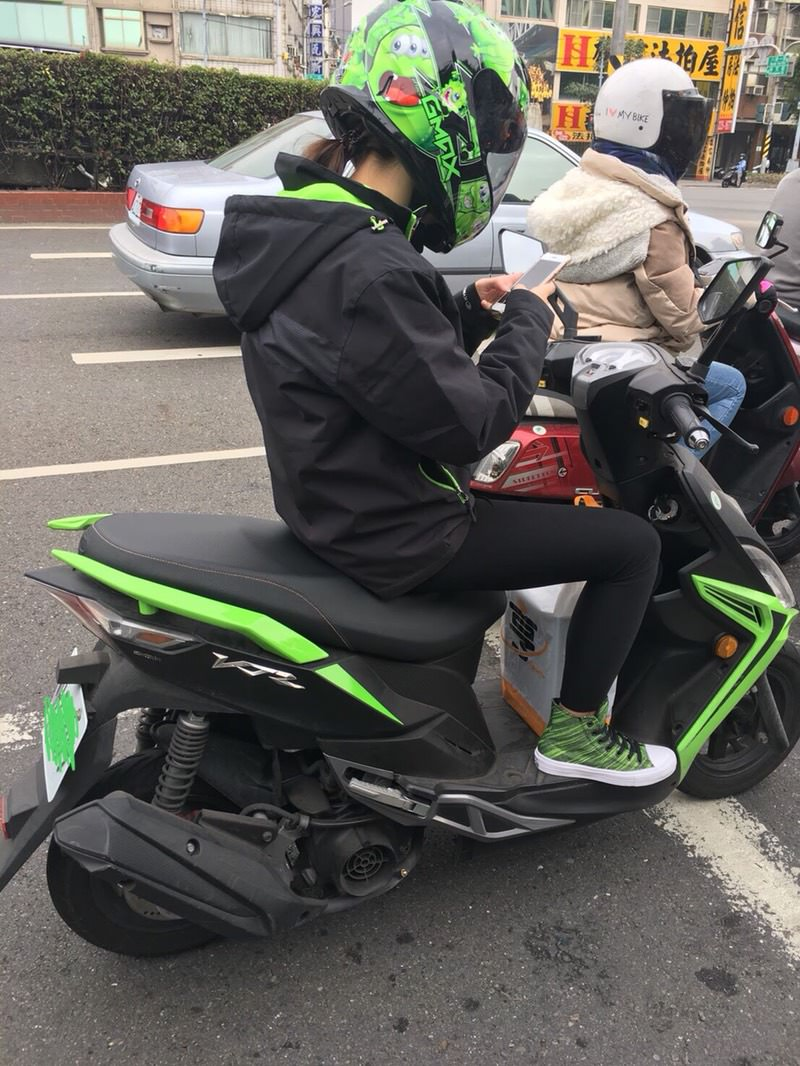helmet: (329, 2, 521, 212), (596, 61, 699, 160)
